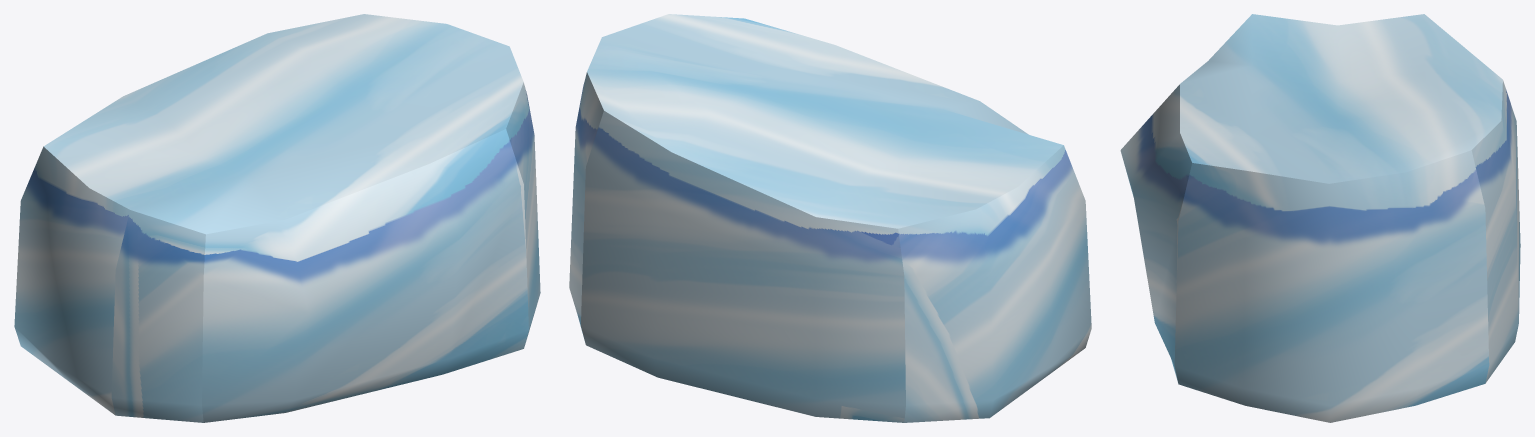
The model's file is ice_03.fbx.
The picture shows the model from 3 angles, left to right: view 1: azimuth 30°, elevation 25°; view 2: azimuth 150°, elevation 25°; view 3: azimuth 270°, elevation 25°; orthographic projection.
Visible parts, largest first — view 1: pCube5; view 2: pCube5; view 3: pCube5.
Part boxes in pixels (<box>): pCube5: <box>14,14,540,422</box>; pCube5: <box>569,14,1091,422</box>; pCube5: <box>1120,14,1520,422</box>.
Bounding box in the file's own units: 28.29 × 13.25 × 20.86.
1 material, 1 textured.
